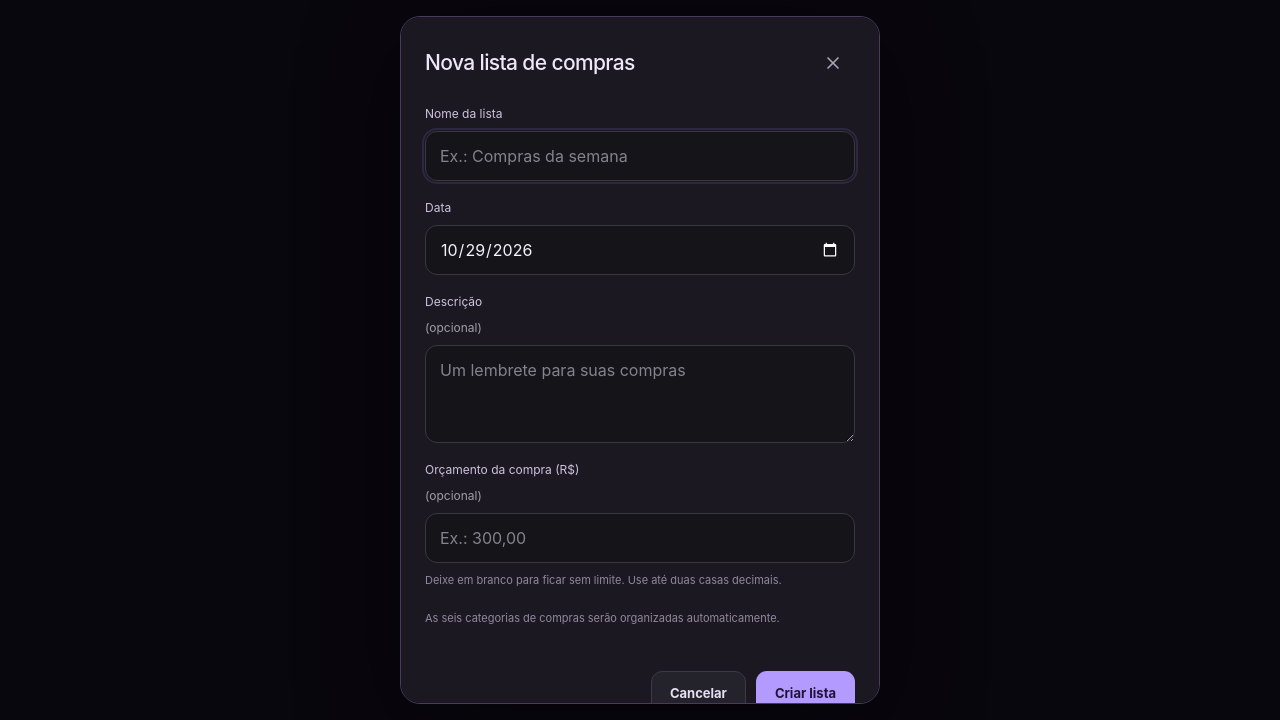
Test: list creation form › preserves a draft after failed storage and prevents duplicate submissions
Type "Compra da semana" into the field labelled "Nome da lista" at {"x": 640, "y": 156}, box x1=425 y1=131 x2=855 y2=181
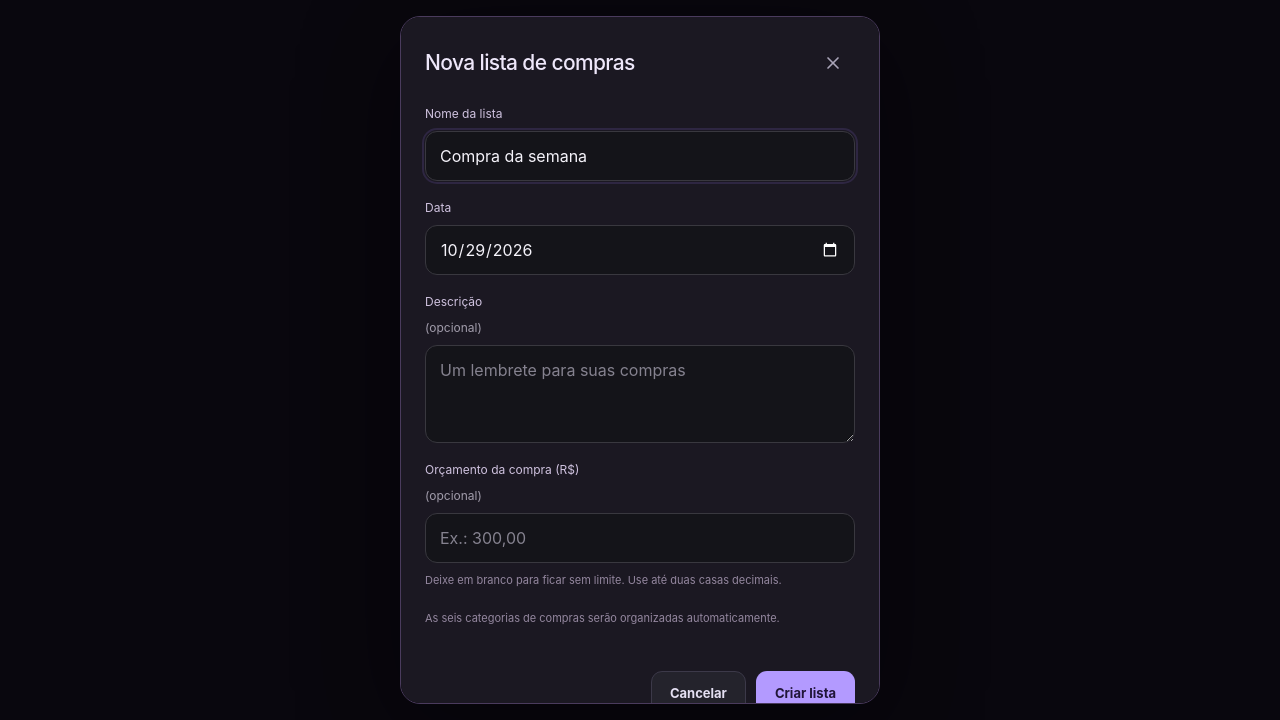
Type "300,00" into the field labelled "Orçamento da compra (R$)" at {"x": 640, "y": 538}, box x1=425 y1=513 x2=855 y2=563
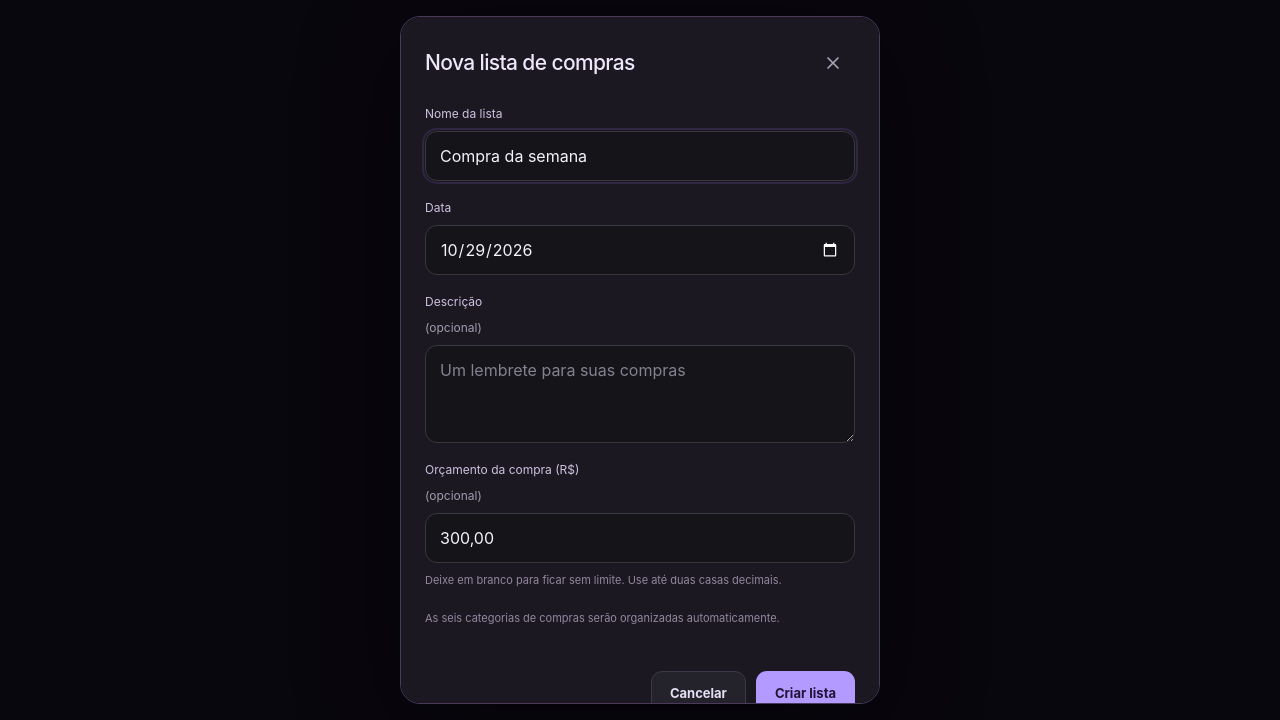
Click the button "Criar lista" at {"x": 805, "y": 693}, box x1=756 y1=671 x2=855 y2=716
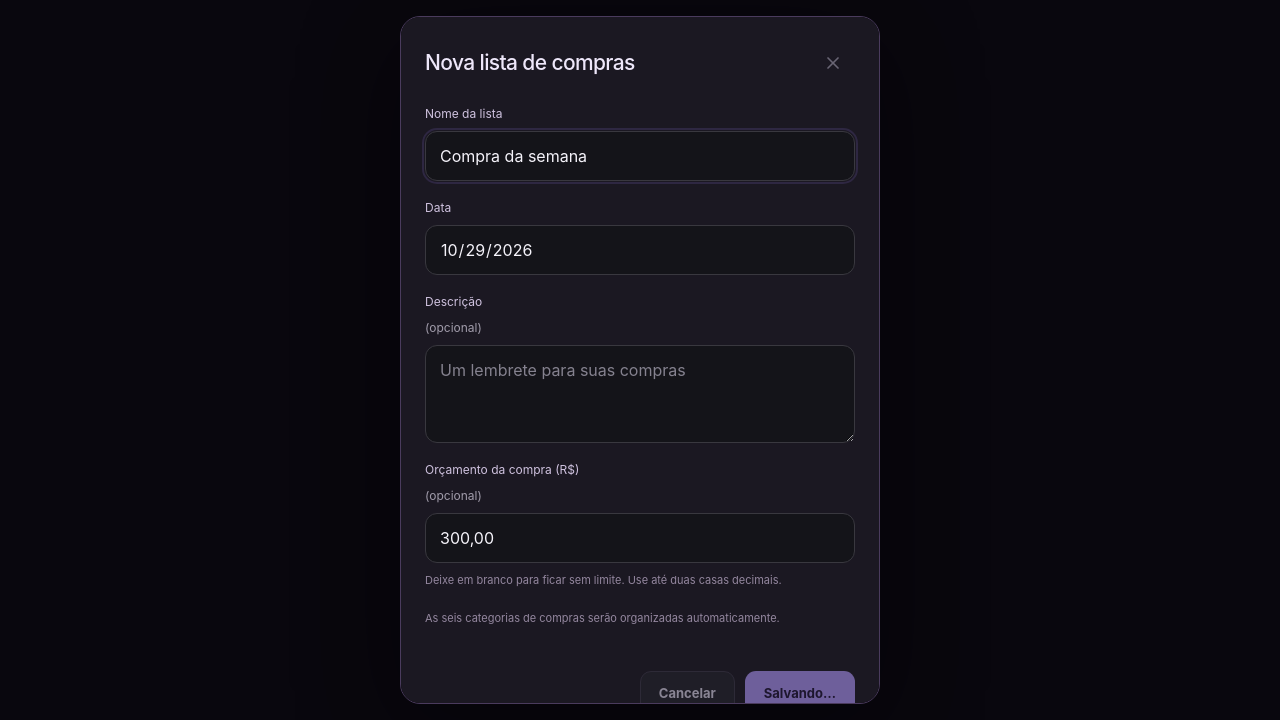
Click the button named "Criar lista" at {"x": 800, "y": 693}, box x1=745 y1=671 x2=855 y2=716
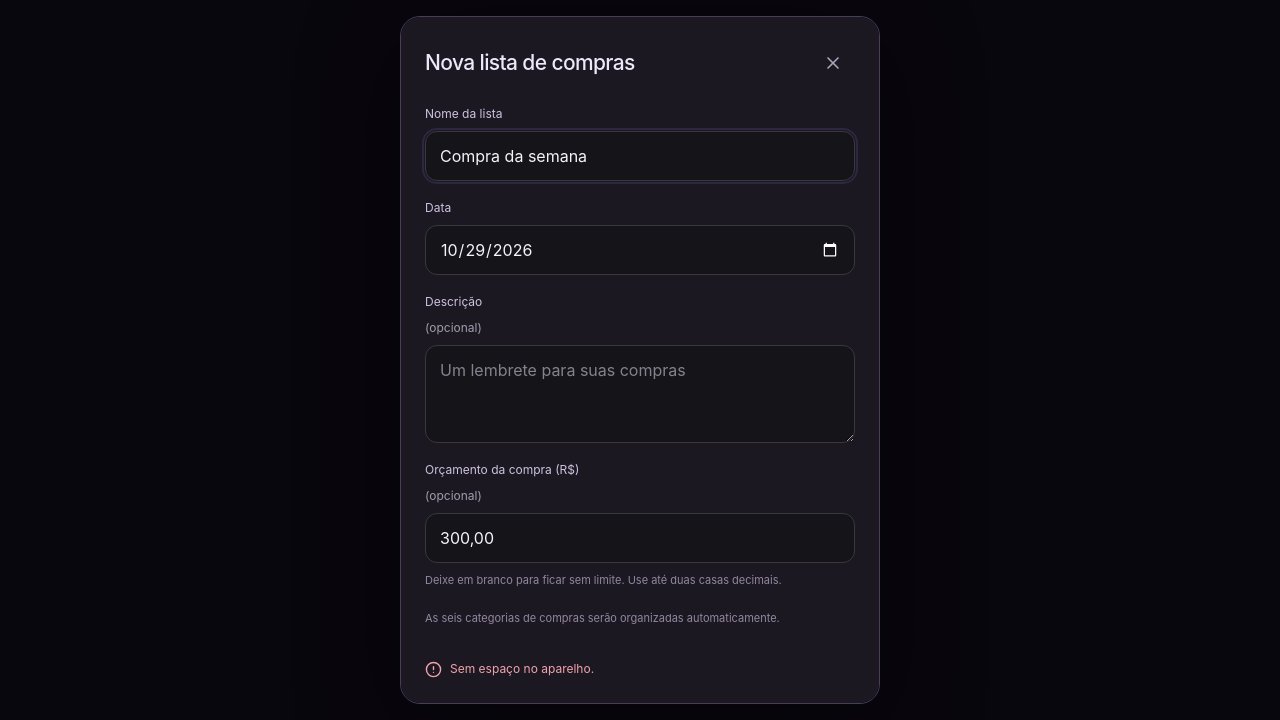
Expected: the message shows "Sem espaço", x1=450 y1=661 x2=594 y2=676
